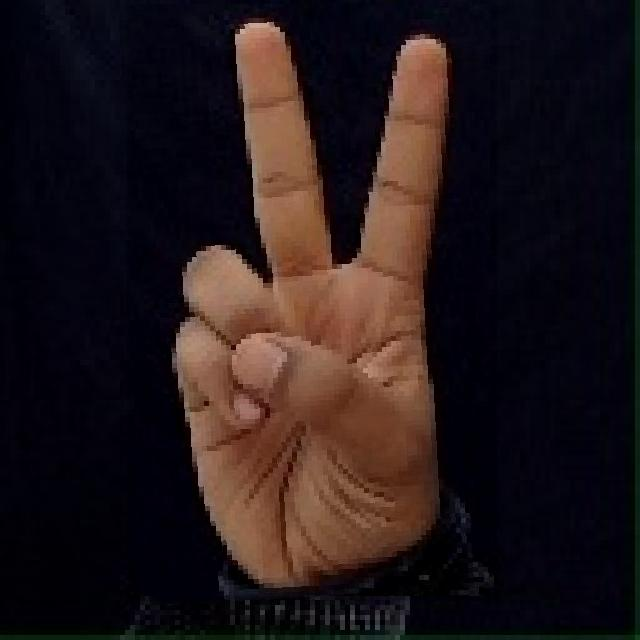No: (127, 0, 497, 601)
